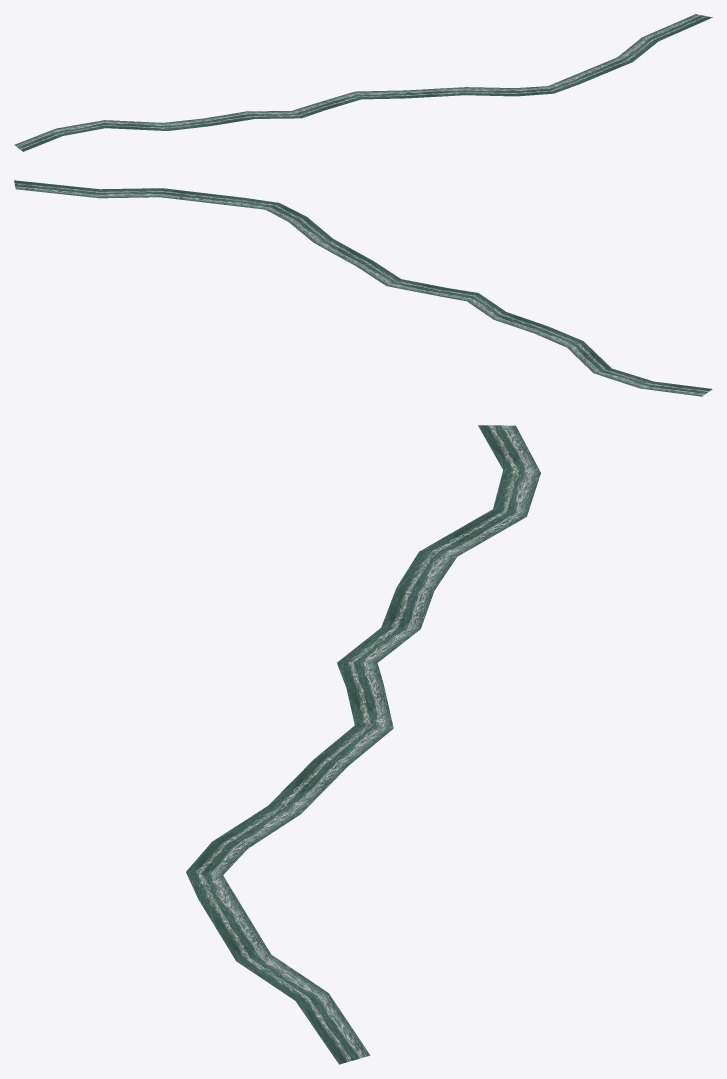
File: Water_wave.FBX
The picture shows the model from 3 angles, top to bottom: view 1: azimuth 30°, elevation 25°; view 2: azimuth 150°, elevation 25°; view 3: azimuth 270°, elevation 25°; orthographic projection. The views are drawn at different scales.
Parts seen in each view (by area): view 1: Water_wave; view 2: Water_wave; view 3: Water_wave.
Part boxes in pixels (left/top/right/bottom): Water_wave: left=14, top=14, right=712, bottom=151; Water_wave: left=14, top=180, right=712, bottom=396; Water_wave: left=186, top=425, right=540, bottom=1064.
Size of the model in its own units: 46754 by 3.13e-12 by 10979.
